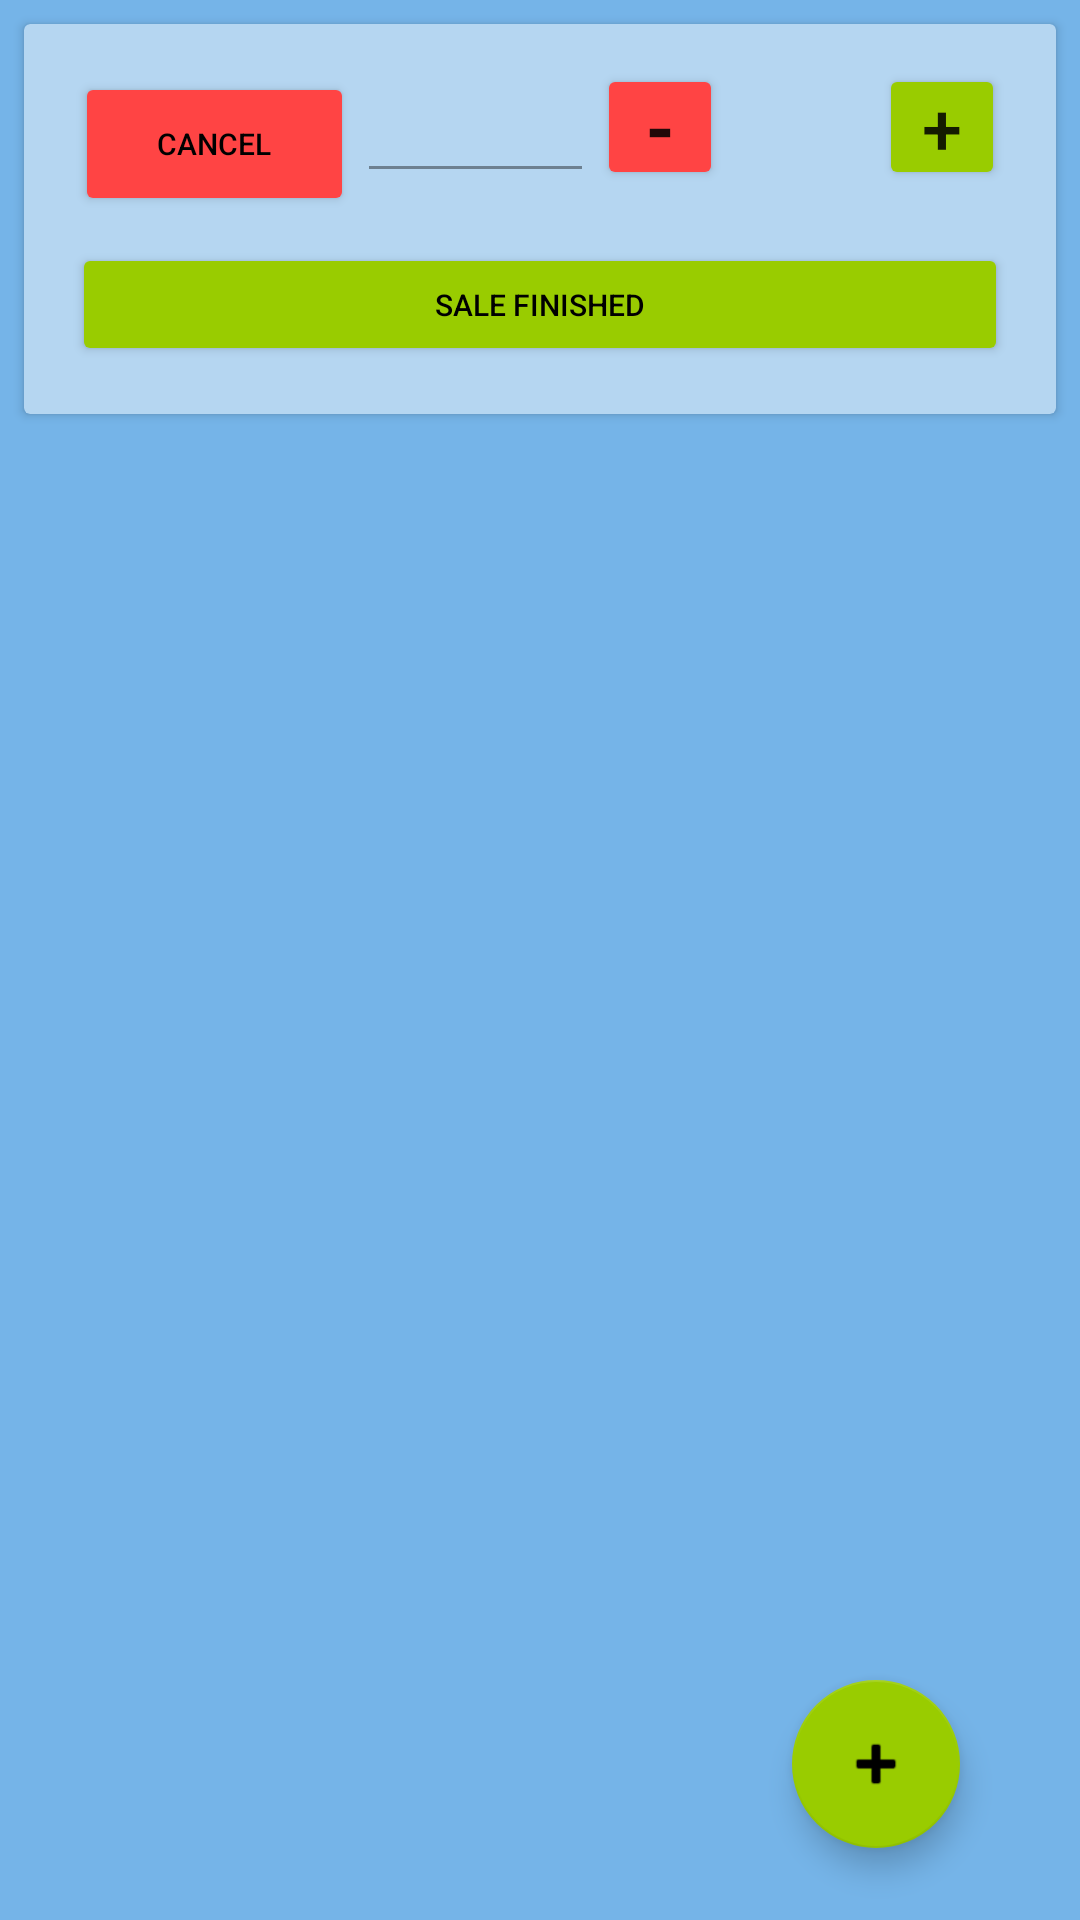

Where to tap for icons on this 1080w x 1920h app screen, as (x=x, y=y):
add: (x=876, y=1764)
